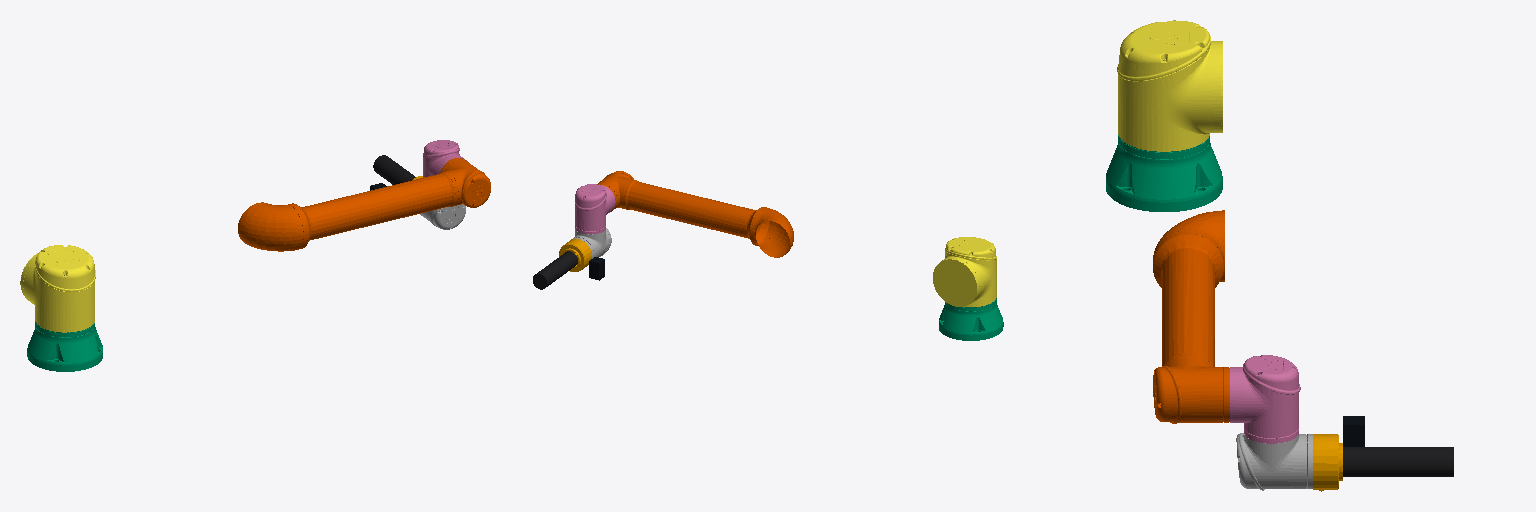
URDF robot description (ur10e):
<?xml version='1.0' encoding='utf-8'?>
<robot name="ur10e">
  <link name="world">
    <inertial>
      <mass value="0.000001" />
      <inertia ixx="1e-9" iyy="1e-9" izz="1e-9" ixy="0" ixz="0" iyz="0" />
    </inertial>
  </link>
  <link name="base_link">
    <inertial>
      <mass value="0.000001" />
      <inertia ixx="1e-9" iyy="1e-9" izz="1e-9" ixy="0" ixz="0" iyz="0" />
    </inertial>
  </link>
  <link name="base_link_inertia">
    <visual>
      <origin rpy="0.0 0.0 3.141592653589793" xyz="0.0 0.0 0.0" />
      <geometry>
        <mesh filename="visual/base/mesh.obj" />
      </geometry>
    </visual>
    <collision>
      <origin rpy="0.0 0.0 3.141592653589793" xyz="0.0 0.0 0.0" />
      <geometry>
        <mesh filename="collision/base.stl" />
      </geometry>
    </collision>
    <inertial>
      <mass value="4.0" />
      <origin rpy="0 0 0" xyz="0 0 0" />
      <inertia ixx="0.0061063308908" ixy="0.0" ixz="0.0" iyy="0.0061063308908" iyz="0.0" izz="0.01125" />
    </inertial>
  </link>
  <link name="shoulder_link">
    <visual>
      <origin rpy="0.0 0.0 3.141592653589793" xyz="0.0 0.0 0.0" />
      <geometry>
        <mesh filename="visual/shoulder/mesh.obj" />
      </geometry>
    </visual>
    <collision>
      <origin rpy="0.0 0.0 3.141592653589793" xyz="0.0 0.0 0.0" />
      <geometry>
        <mesh filename="collision/shoulder.stl" />
      </geometry>
    </collision>
    <inertial>
      <mass value="7.369" />
      <origin rpy="1.570796326794897 0 0" xyz="0.021 -0.027 0.0" />
      <inertia ixx="0.03408" ixy="2e-05" ixz="-0.00425" iyy="0.03529" iyz="8e-05" izz="0.02156" />
    </inertial>
  </link>
  <link name="upper_arm_link">
    <visual>
      <origin rpy="1.5707963267948966 0.0 -1.5707963267948966" xyz="0.0 0.0 0.1762" />
      <geometry>
        <mesh filename="visual/upperarm/mesh.obj" />
      </geometry>
    </visual>
    <collision>
      <origin rpy="1.5707963267948966 0.0 -1.5707963267948966" xyz="0.0 0.0 0.1762" />
      <geometry>
        <mesh filename="collision/upperarm.stl" />
      </geometry>
    </collision>
    <inertial>
      <mass value="13.051" />
      <origin rpy="0 0 0" xyz="-0.2327 0.0 0.158" />
      <inertia ixx="0.02814" ixy="5e-05" ixz="-0.01561" iyy="0.77068" iyz="2e-05" izz="0.76943" />
    </inertial>
  </link>
  <link name="forearm_link">
    <visual>
      <origin rpy="1.5707963267948966 0.0 -1.5707963267948966" xyz="0.0 0.0 0.0393" />
      <geometry>
        <mesh filename="visual/forearm/mesh.obj" />
      </geometry>
    </visual>
    <collision>
      <origin rpy="1.5707963267948966 0.0 -1.5707963267948966" xyz="0.0 0.0 0.0393" />
      <geometry>
        <mesh filename="collision/forearm.stl" />
      </geometry>
    </collision>
    <inertial>
      <mass value="3.989" />
      <origin rpy="0 0 0" xyz="-0.33155 0.0 0.068" />
      <inertia ixx="0.01014" ixy="8e-05" ixz="0.00916" iyy="0.30928" iyz="0.0" izz="0.30646" />
    </inertial>
  </link>
  <link name="wrist_1_link">
    <visual>
      <origin rpy="1.5707963267948966 0.0 0.0" xyz="0.0 0.0 -0.135" />
      <geometry>
        <mesh filename="visual/wrist1/mesh.obj" />
      </geometry>
    </visual>
    <collision>
      <origin rpy="1.5707963267948966 0.0 0.0" xyz="0.0 0.0 -0.135" />
      <geometry>
        <mesh filename="collision/wrist1.stl" />
      </geometry>
    </collision>
    <inertial>
      <mass value="2.1" />
      <origin rpy="1.570796326794897 0 0" xyz="0.0 -0.018 0.007" />
      <inertia ixx="0.00296" ixy="-1e-05" ixz="0.0" iyy="0.00222" iyz="-0.00024" izz="0.00258" />
    </inertial>
  </link>
  <link name="wrist_2_link">
    <visual>
      <origin rpy="0.0 0.0 0.0" xyz="0.0 0.0 -0.12" />
      <geometry>
        <mesh filename="visual/wrist2/mesh.obj" />
      </geometry>
    </visual>
    <collision>
      <origin rpy="0.0 0.0 0.0" xyz="0.0 0.0 -0.12" />
      <geometry>
        <mesh filename="collision/wrist2.stl" />
      </geometry>
    </collision>
    <inertial>
      <mass value="1.98" />
      <origin rpy="-1.570796326794897 0 0" xyz="0.0 0.018 -0.007" />
      <inertia ixx="0.00296" ixy="-1e-05" ixz="0.0" iyy="0.00222" iyz="-0.00024" izz="0.00258" />
    </inertial>
  </link>
  <link name="wrist_3_link">
    <visual>
      <origin rpy="1.5707963267948966 0.0 0.0" xyz="0.0 -0.0005 -0.1168" />
      <geometry>
        <mesh filename="visual/wrist3/mesh.obj" />
      </geometry>
    </visual>
    <collision>
      <origin rpy="1.5707963267948966 0.0 0.0" xyz="0.0 -0.0005 -0.1168" />
      <geometry>
        <mesh filename="collision/wrist3.stl" />
      </geometry>
    </collision>
    <inertial>
      <mass value="0.615" />
      <origin rpy="0 0 0" xyz="0.0 0.0 -0.026" />
      <inertia ixx="0.0004" ixy="0.0" ixz="0.0" iyy="0.00041" iyz="0.0" izz="0.00034" />
    </inertial>
  </link>
  <joint name="base_joint" type="fixed">
    <origin rpy="0 0 0" xyz="0 0 0" />
    <parent link="world" />
    <child link="base_link" />
  </joint>
  <joint name="base_link-base_link_inertia" type="fixed">
    <parent link="base_link" />
    <child link="base_link_inertia" />
    <origin rpy="0 0 3.141592653589793" xyz="0 0 0" />
  </joint>
  <joint name="shoulder_pan_joint" type="revolute">
    <parent link="base_link_inertia" />
    <child link="shoulder_link" />
    <origin rpy="0 0 0" xyz="0 0 0.1807" />
    <axis xyz="0 0 1" />
    <limit effort="330.0" lower="-6.283185307179586" upper="6.283185307179586" velocity="2.0943951023931953" />
    <dynamics damping="0" friction="0" />
  </joint>
  <joint name="shoulder_lift_joint" type="revolute">
    <parent link="shoulder_link" />
    <child link="upper_arm_link" />
    <origin rpy="1.570796327 0 0" xyz="0 0 0" />
    <axis xyz="0 0 1" />
    <limit effort="330.0" lower="-6.283185307179586" upper="6.283185307179586" velocity="2.0943951023931953" />
    <dynamics damping="0" friction="0" />
  </joint>
  <joint name="elbow_joint" type="revolute">
    <parent link="upper_arm_link" />
    <child link="forearm_link" />
    <origin rpy="0 0 0" xyz="-0.6127 0 0" />
    <axis xyz="0 0 1" />
    <limit effort="150.0" lower="-3.141592653589793" upper="3.141592653589793" velocity="3.141592653589793" />
    <dynamics damping="0" friction="0" />
  </joint>
  <joint name="wrist_1_joint" type="revolute">
    <parent link="forearm_link" />
    <child link="wrist_1_link" />
    <origin rpy="0 0 0" xyz="-0.57155 0 0.17415" />
    <axis xyz="0 0 1" />
    <limit effort="54.0" lower="-6.283185307179586" upper="6.283185307179586" velocity="3.141592653589793" />
    <dynamics damping="0" friction="0" />
  </joint>
  <joint name="wrist_2_joint" type="revolute">
    <parent link="wrist_1_link" />
    <child link="wrist_2_link" />
    <origin rpy="1.570796327 0 0" xyz="0 -0.11985 -2.458164590756244e-11" />
    <axis xyz="0 0 1" />
    <limit effort="54.0" lower="-6.283185307179586" upper="6.283185307179586" velocity="3.141592653589793" />
    <dynamics damping="0" friction="0" />
  </joint>
  <joint name="wrist_3_joint" type="revolute">
    <parent link="wrist_2_link" />
    <child link="wrist_3_link" />
    <origin rpy="1.570796326589793 3.141592653589793 3.141592653589793" xyz="0 0.11655 -2.390480459346185e-11" />
    <axis xyz="0 0 1" />
    <limit effort="54.0" lower="-6.283185307179586" upper="6.283185307179586" velocity="3.141592653589793" />
    <dynamics damping="0" friction="0" />
  </joint>
  <link name="ft_frame">
    <inertial>
      <mass value="0.000001" />
      <inertia ixx="1e-9" iyy="1e-9" izz="1e-9" ixy="0" ixz="0" iyz="0" />
    </inertial>
  </link>
  <joint name="wrist_3_link-ft_frame" type="fixed">
    <parent link="wrist_3_link" />
    <child link="ft_frame" />
    <origin rpy="3.141592653589793 0 0" xyz="0 0 0" />
  </joint>
  <link name="base">
    <inertial>
      <mass value="0.000001" />
      <inertia ixx="1e-9" iyy="1e-9" izz="1e-9" ixy="0" ixz="0" iyz="0" />
    </inertial>
  </link>
  <joint name="base_link-base_fixed_joint" type="fixed">
    <origin rpy="0 0 3.141592653589793" xyz="0 0 0" />
    <parent link="base_link" />
    <child link="base" />
  </joint>
  <link name="flange">
    <inertial>
      <mass value="0.000001" />
      <inertia ixx="1e-9" iyy="1e-9" izz="1e-9" ixy="0" ixz="0" iyz="0" />
    </inertial>
  </link>
  <joint name="wrist_3-flange" type="fixed">
    <parent link="wrist_3_link" />
    <child link="flange" />
    <origin rpy="0 -1.5707963267948966 -1.5707963267948966" xyz="0 0 0" />
  </joint>
  <link name="tool0">
    <inertial>
      <mass value="0.000001" />
      <inertia ixx="1e-9" iyy="1e-9" izz="1e-9" ixy="0" ixz="0" iyz="0" />
    </inertial>
  </link>
  <joint name="flange-tool0" type="fixed">
    <origin rpy="1.5707963267948966 0 1.5707963267948966" xyz="0 0 0" />
    <parent link="flange" />
    <child link="tool0" />
  </joint>
  <link name="vacuum_tool">
    <inertial>
      <origin xyz="0 0 0.09" />
      <mass value="0.35" />
      <inertia ixx="0.001" iyy="0.001" izz="0.0002" ixy="0" ixz="0" iyz="0" />
    </inertial>
    <visual>
      <origin xyz="0 0 0.09" />
      <geometry>
        <cylinder radius="0.025" length="0.18" />
      </geometry>
      <material name="tool">
        <color rgba="0.15 0.15 0.16 1" />
      </material>
    </visual>
    <collision>
      <origin xyz="0 0 0.09" />
      <geometry>
        <cylinder radius="0.025" length="0.18" />
      </geometry>
    </collision>
  </link>
  <joint name="vacuum_fixed" type="fixed">
    <parent link="tool0" />
    <child link="vacuum_tool" />
  </joint>
  <link name="wrist_camera">
    <inertial>
      <mass value="0.10" />
      <inertia ixx="0.00004" iyy="0.00003" izz="0.00004" ixy="0" ixz="0" iyz="0" />
    </inertial>
    <visual>
      <geometry>
        <box size="0.035 0.055 0.035" />
      </geometry>
      <material name="camera">
        <color rgba="0.08 0.10 0.13 1" />
      </material>
    </visual>
    <collision>
      <geometry>
        <box size="0.035 0.055 0.035" />
      </geometry>
    </collision>
  </link>
  <joint name="camera_fixed" type="fixed">
    <parent link="tool0" />
    <child link="wrist_camera" />
    <origin xyz="0.1 0 0.0175" />
  </joint>
</robot>

--- What the picture shows (computed from the rendered views, not written in the file) ---
The picture shows the robot from 3 angles, left to right: view 1: azimuth 30°, elevation 25°; view 2: azimuth 150°, elevation 25°; view 3: azimuth 270°, elevation 25°; orthographic projection.
Robot: ur10e — 15 links, 14 joints (6 revolute, 8 fixed); root link world; default pose: every joint at zero.
Links seen in each view (by area): view 1: forearm_link, shoulder_link, base_link_inertia, wrist_1_link, wrist_2_link, vacuum_tool; view 2: forearm_link, shoulder_link, base_link_inertia, wrist_1_link, vacuum_tool, wrist_2_link, wrist_3_link; view 3: forearm_link, shoulder_link, base_link_inertia, wrist_1_link, wrist_2_link, vacuum_tool, wrist_3_link, wrist_camera.
Link boxes in pixels (x1,y1,x2,y2): forearm_link: (238, 158, 490, 251); shoulder_link: (20, 245, 95, 332); base_link_inertia: (27, 321, 102, 371); wrist_1_link: (423, 140, 467, 177); wrist_2_link: (420, 204, 465, 229); vacuum_tool: (373, 155, 415, 184); forearm_link: (597, 171, 793, 257); shoulder_link: (933, 237, 996, 306); base_link_inertia: (939, 298, 1003, 340); wrist_1_link: (575, 184, 615, 234); vacuum_tool: (533, 251, 577, 289); wrist_2_link: (571, 228, 611, 258); wrist_3_link: (559, 239, 591, 271); forearm_link: (1153, 210, 1229, 423); shoulder_link: (1117, 20, 1222, 151); base_link_inertia: (1106, 135, 1222, 211); wrist_1_link: (1230, 355, 1300, 443); wrist_2_link: (1236, 433, 1312, 490); vacuum_tool: (1343, 447, 1453, 476); wrist_3_link: (1313, 434, 1342, 491); wrist_camera: (1343, 416, 1364, 446).
Size in the robot's own frame: 1.33 by 0.5657 by 0.2746 metres.
6 mesh visuals loaded from 7 distinct referenced files (6 OBJ); not drawn: 1 (reference not matched to a file when rendering).
